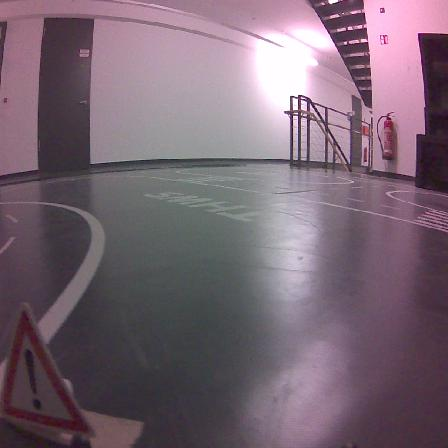ATTENTION: (0, 304, 93, 435)
